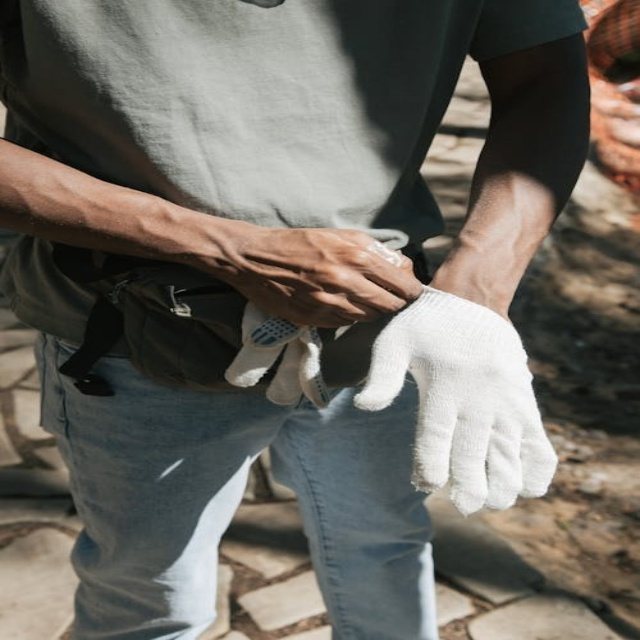Guantes: (352, 277, 584, 518)
Sin_guantes: (219, 226, 426, 332)
